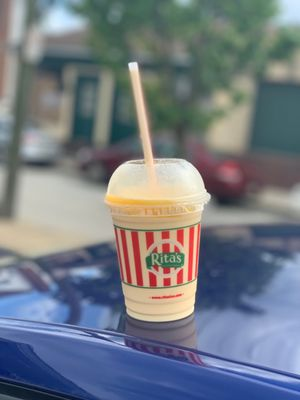pizza: (102, 158, 209, 345)
